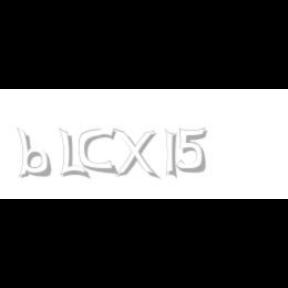5: (176, 128, 207, 174)
C: (79, 128, 116, 174)
I: (166, 128, 178, 180)
L: (59, 128, 87, 180)
X: (113, 128, 157, 180)
b: (16, 128, 54, 178)
